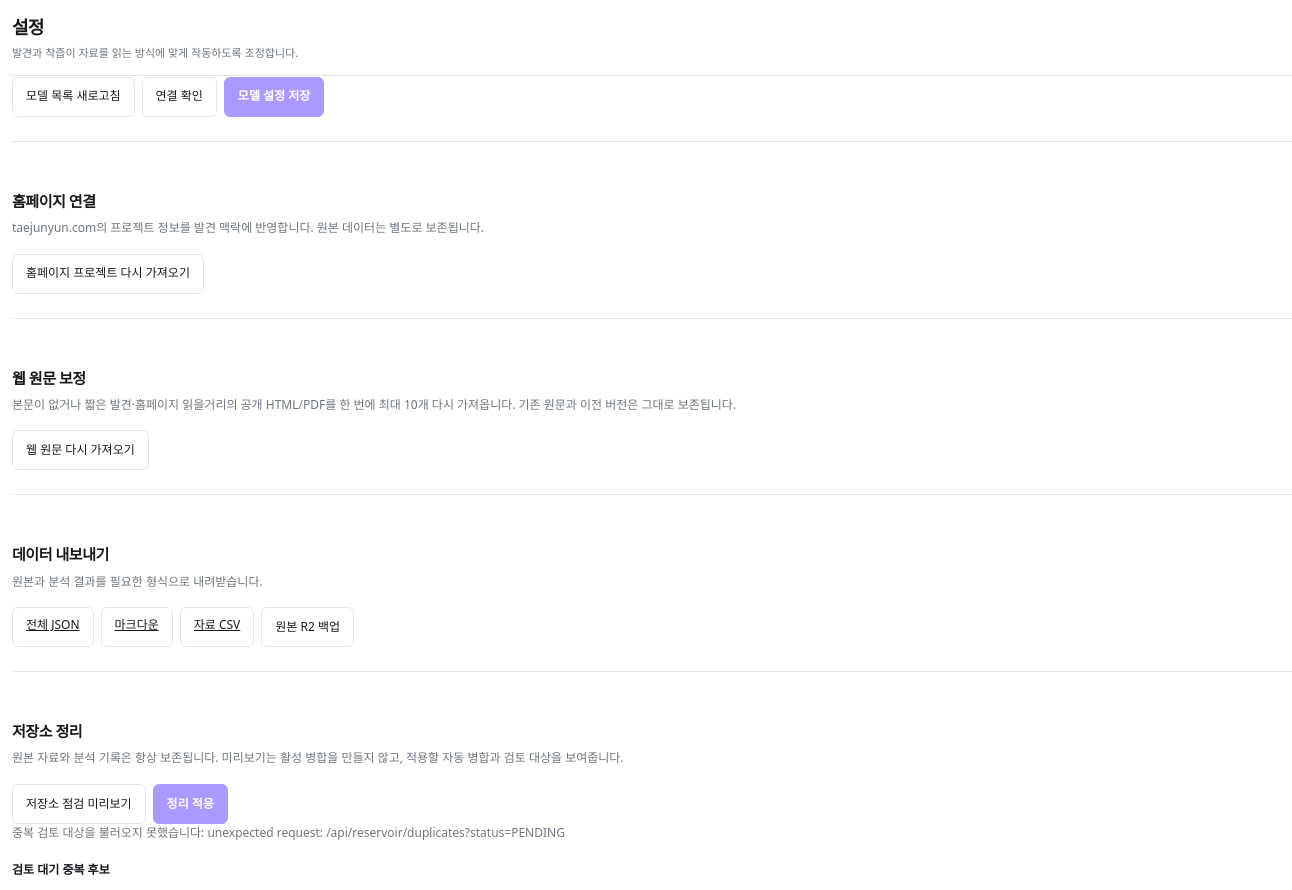
Test: SettingsView › runs bounded web-source backfill and explains that prior versions are preserved
(page scrolled)
Expected: the text "이전 버전은 그대로 보존" is shown, [12,396,736,413]
Click the button "웹 원문 다시 가져오기".
click(80, 450)  # box [12,430,149,470]
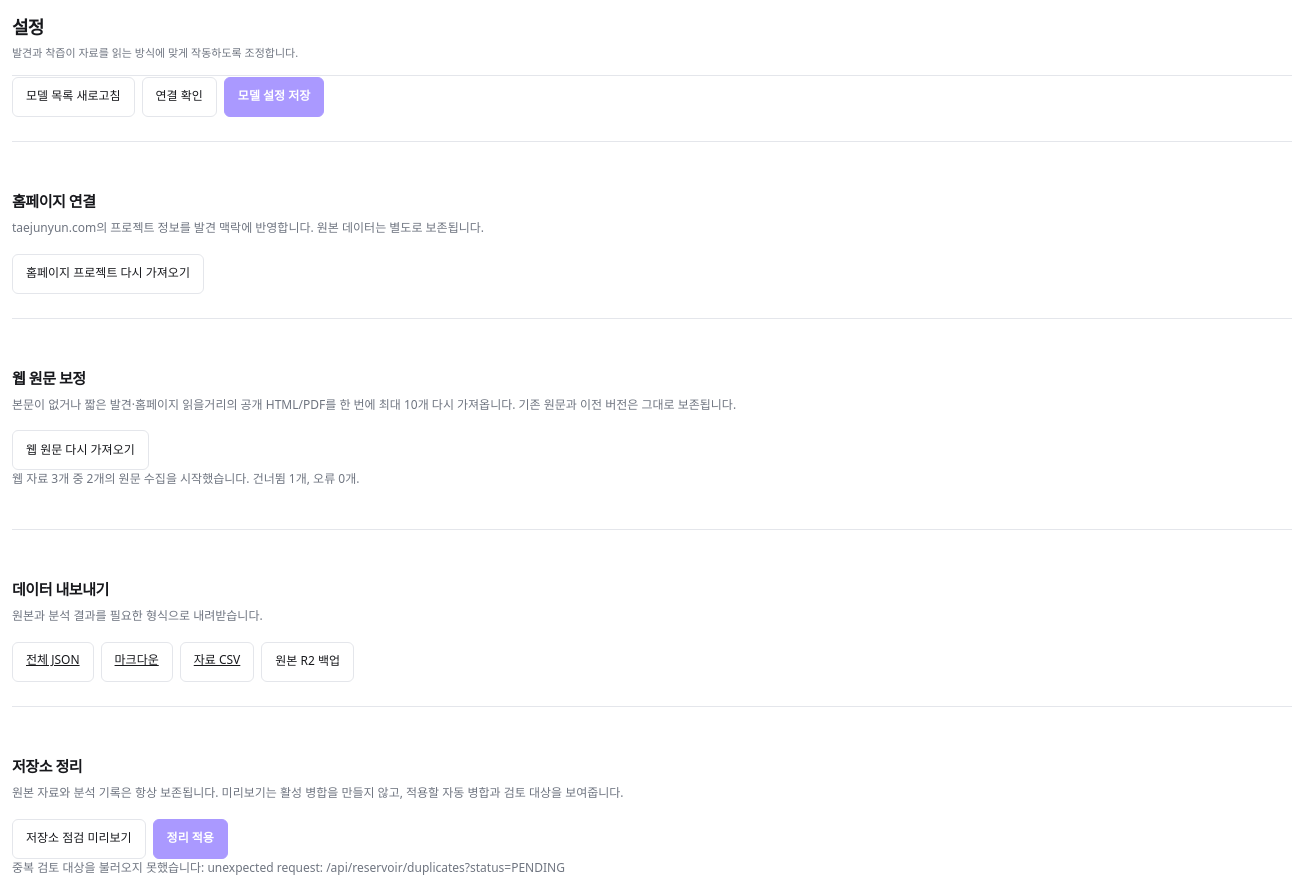
Now the text "웹 자료 3개 중 2개의 원문 수집을 시작했습니다. 건너뜀 1개, 오류 0개." is shown, box [12,470,359,487]
